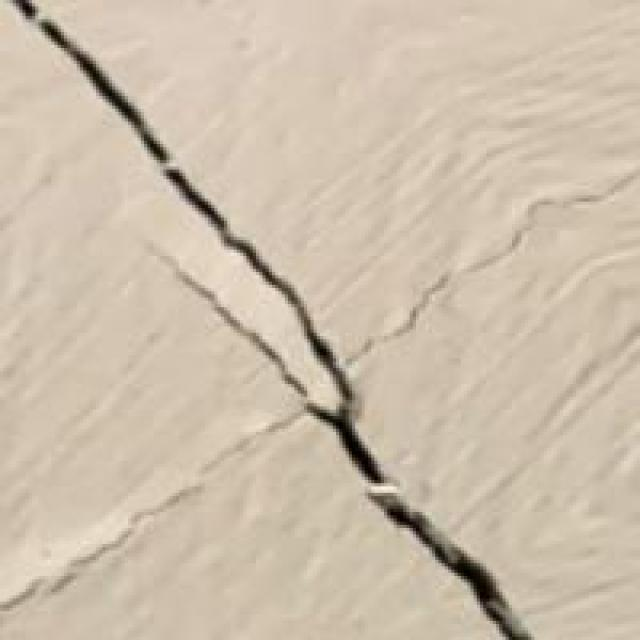crack: (6, 3, 525, 634)
